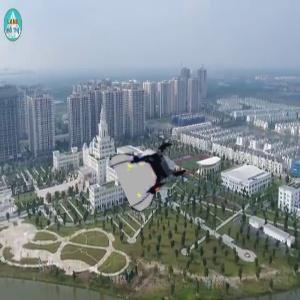drone: (119, 137, 188, 206)
